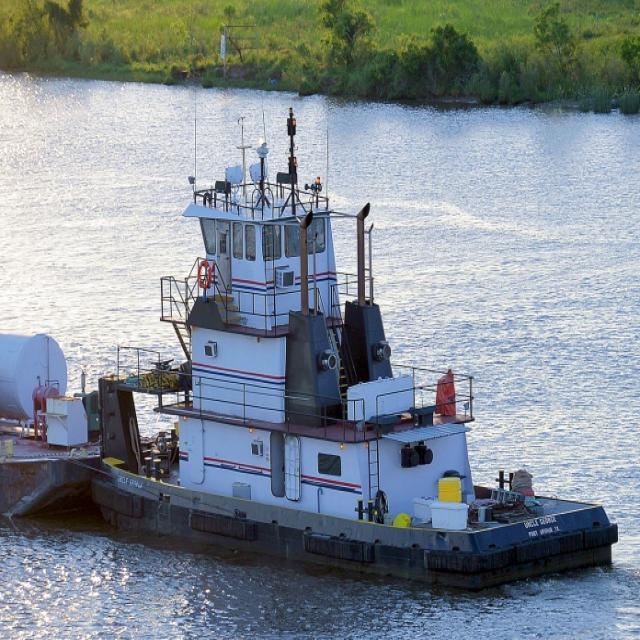tugboat: (72, 143, 624, 602)
